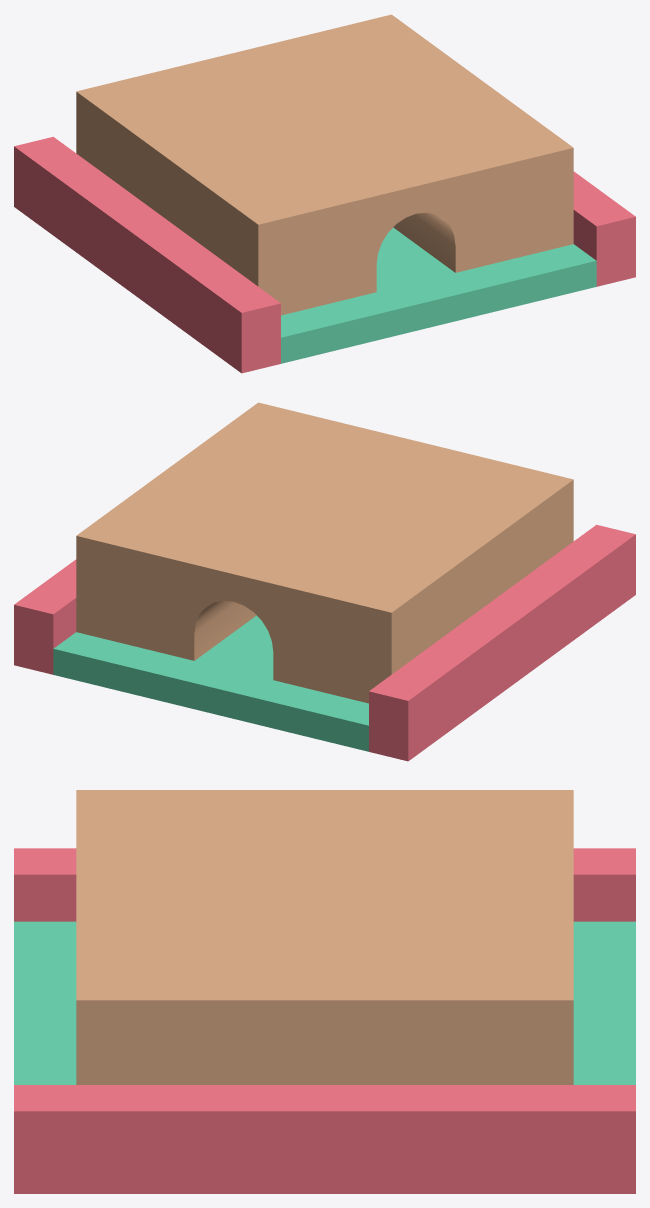
Rendered from tunnelNarrow.glb.
3 renders of one model, top to bottom at view 1: azimuth 30°, elevation 25°; view 2: azimuth 150°, elevation 25°; view 3: azimuth 270°, elevation 25°, orthographic. The views are drawn at different scales.
Parts seen in each view (by area): view 1: tunnelNarrow; view 2: tunnelNarrow; view 3: tunnelNarrow.
Boxes of the visible parts, bbox=[...] form: tunnelNarrow: bbox=[14, 14, 635, 373]; tunnelNarrow: bbox=[14, 402, 635, 761]; tunnelNarrow: bbox=[14, 790, 635, 1193].
Bounding box in the file's own units: 0.9999 × 0.2966 × 0.9999.
